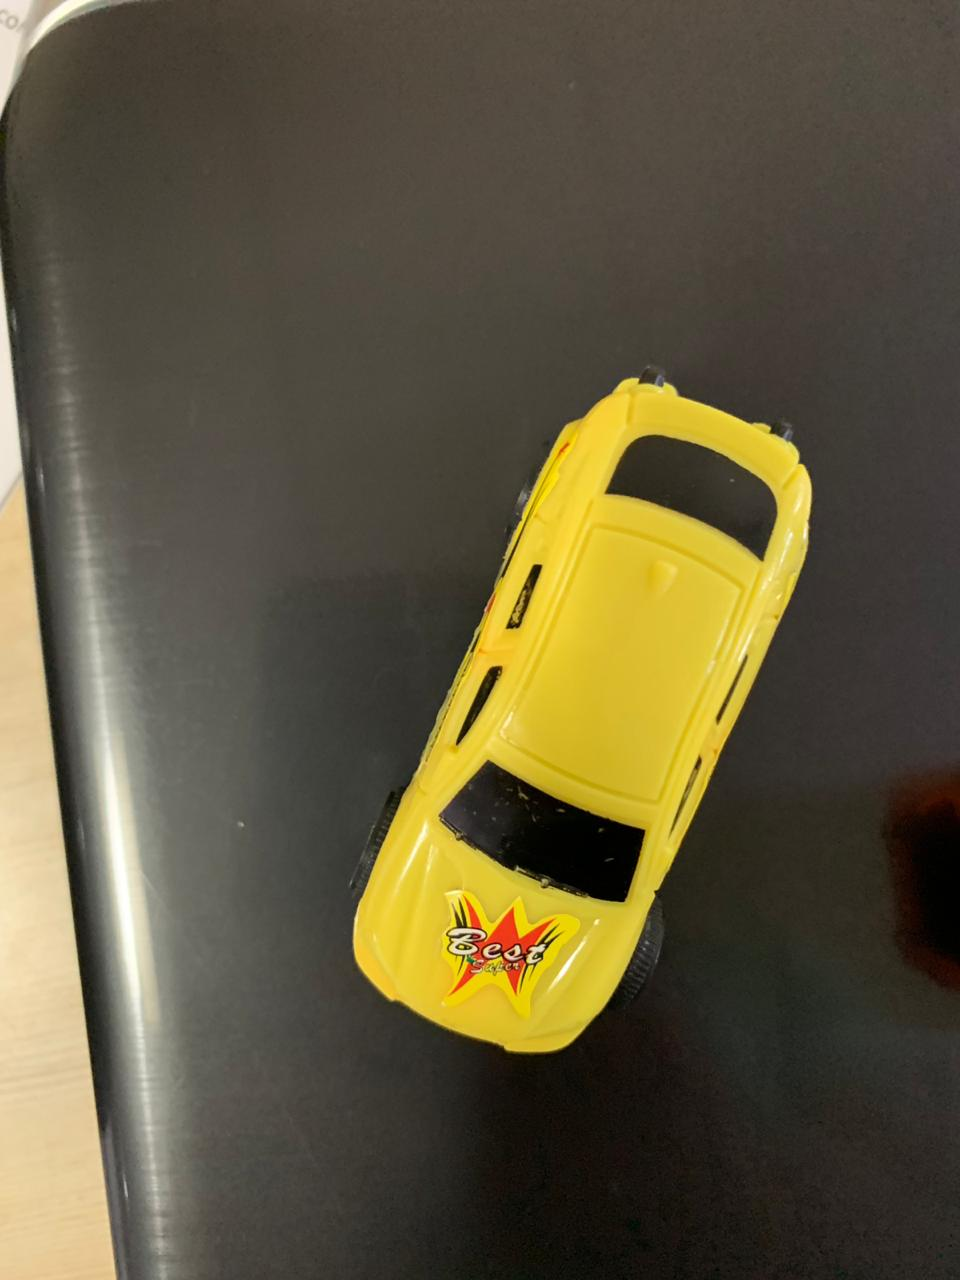car: (339, 298, 845, 1084), (349, 302, 821, 1068), (349, 302, 816, 1068)
